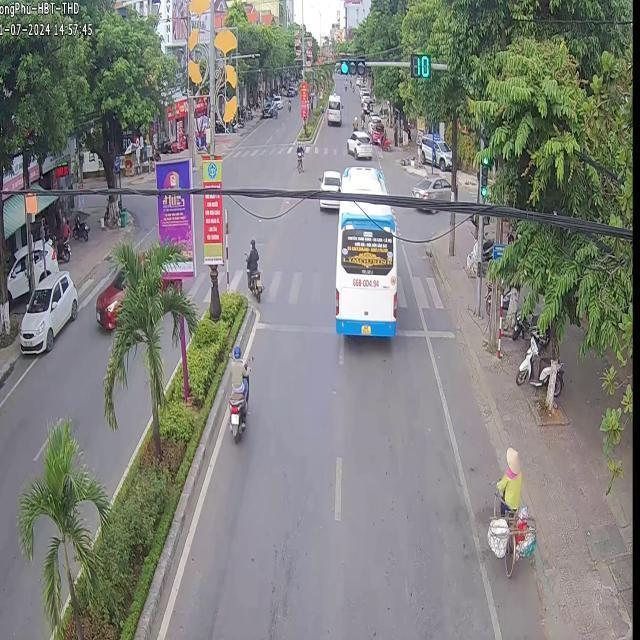car: (334, 167, 396, 341)
green_light: (338, 56, 364, 74), (478, 154, 487, 198)
motobike: (228, 342, 247, 440), (244, 238, 262, 300)
stop_line: (254, 321, 334, 334), (395, 328, 453, 337)
